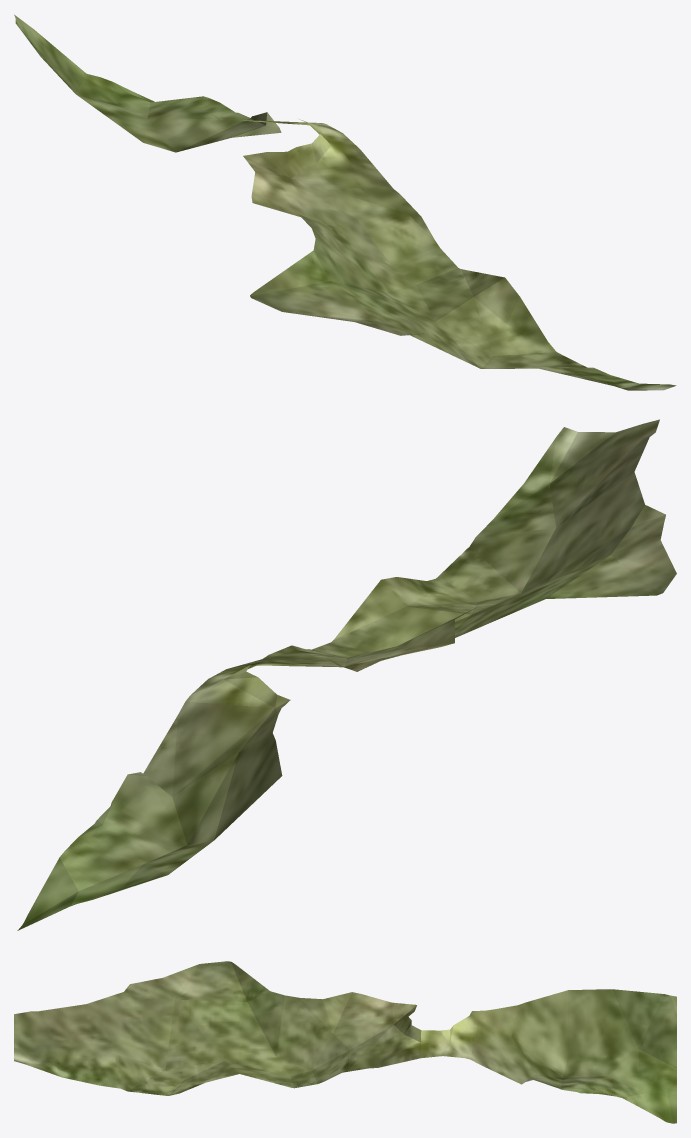
3 views of the same model, one above another, from view 1: azimuth 30°, elevation 25°; view 2: azimuth 150°, elevation 25°; view 3: azimuth 270°, elevation 25° (orthographic). The views are drawn at different scales.
Bounding box in the file's own units: 0.8558 × 0.399 × 2.95.
1 material, 1 textured.
